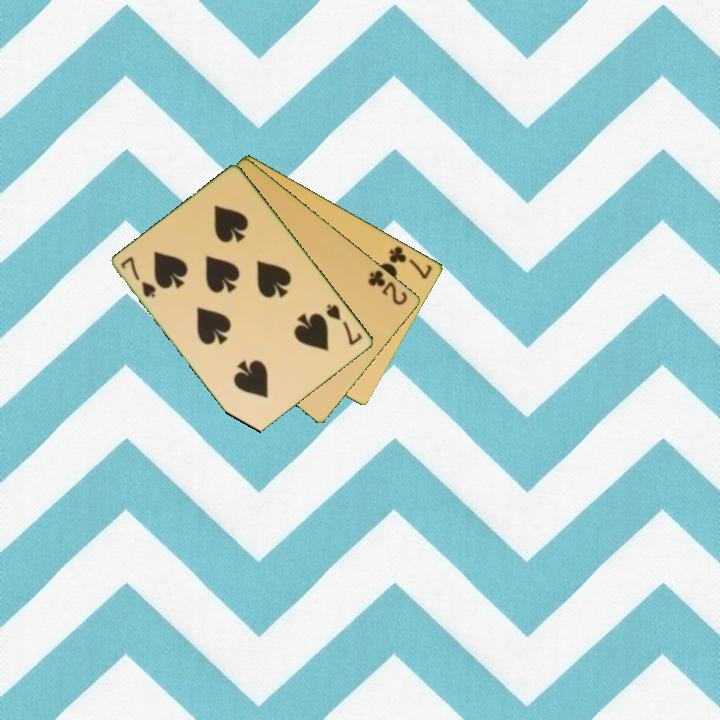2c: (365, 266, 411, 308)
7c: (386, 242, 435, 282)
7s: (323, 300, 366, 348), (117, 253, 159, 301)
